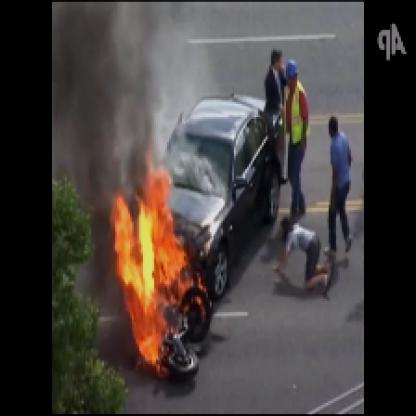Fire: (110, 154, 214, 386)
Smoke: (58, 2, 167, 169)
